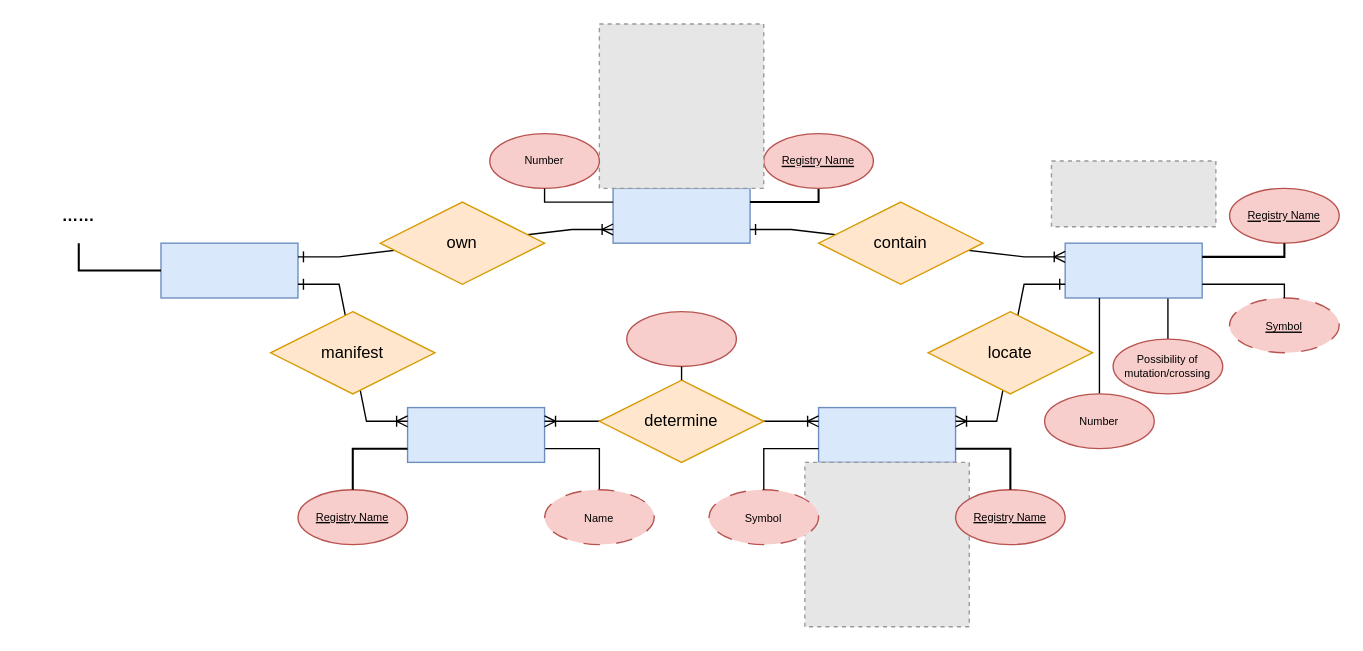
This 1363x651 diagram has some shape labels left out. Grey dashed boxes stand in for pictures. The centre of each missing label's shape, as x and y in pixels:
Allele: point 886,434
Chromosome: point 681,215
Effect: point 680,338
Gene Locus: point 1133,270
Mob: point 229,270
Trait: point 475,434
